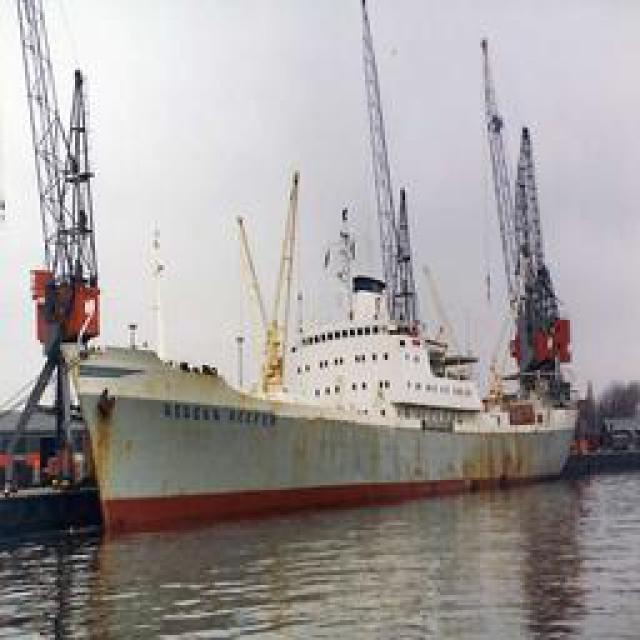Ship: (30, 5, 595, 520)
